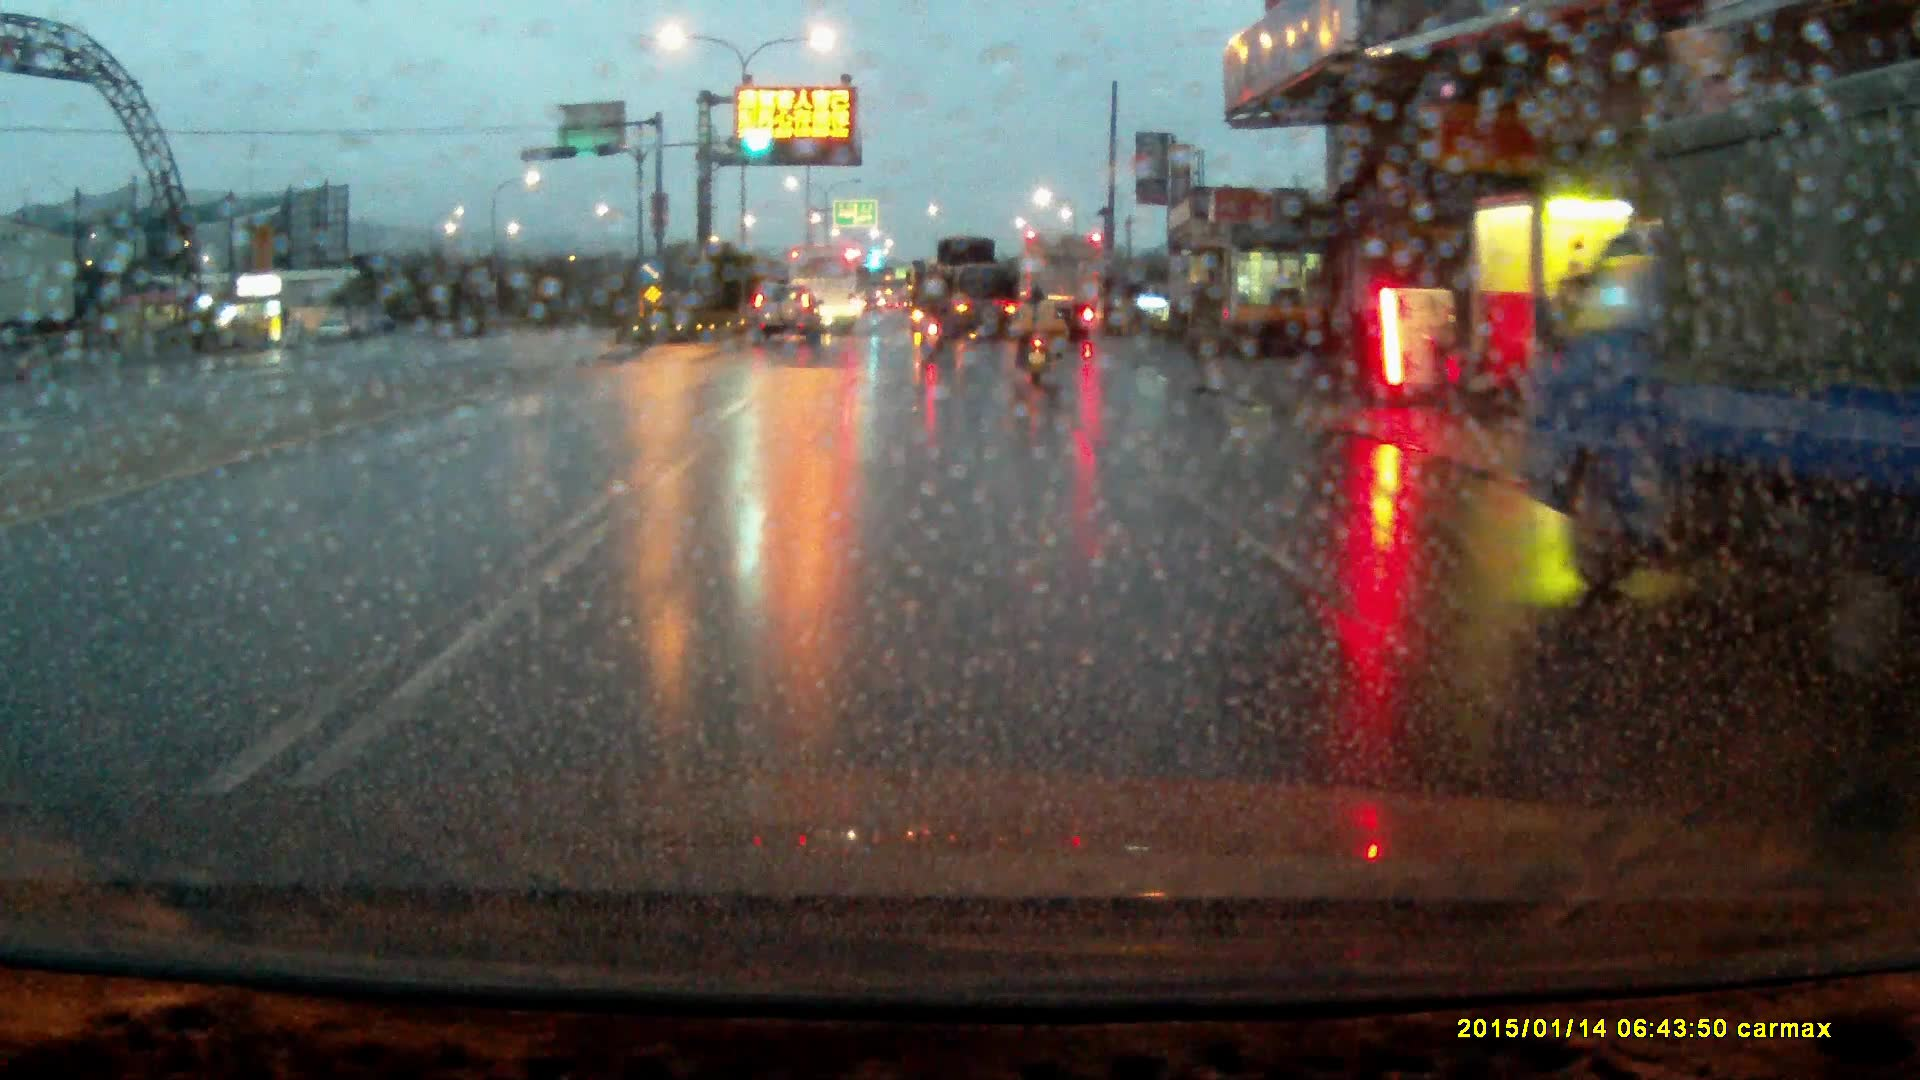rider: (1017, 283, 1056, 387), (920, 283, 945, 357)
vehicle: (1520, 98, 1920, 600), (923, 234, 1024, 345), (1022, 232, 1106, 339), (788, 240, 863, 330), (752, 279, 820, 342)
